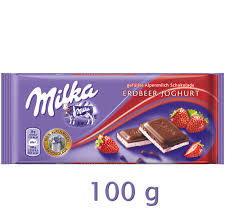Chocolate: (1, 71, 225, 175)
